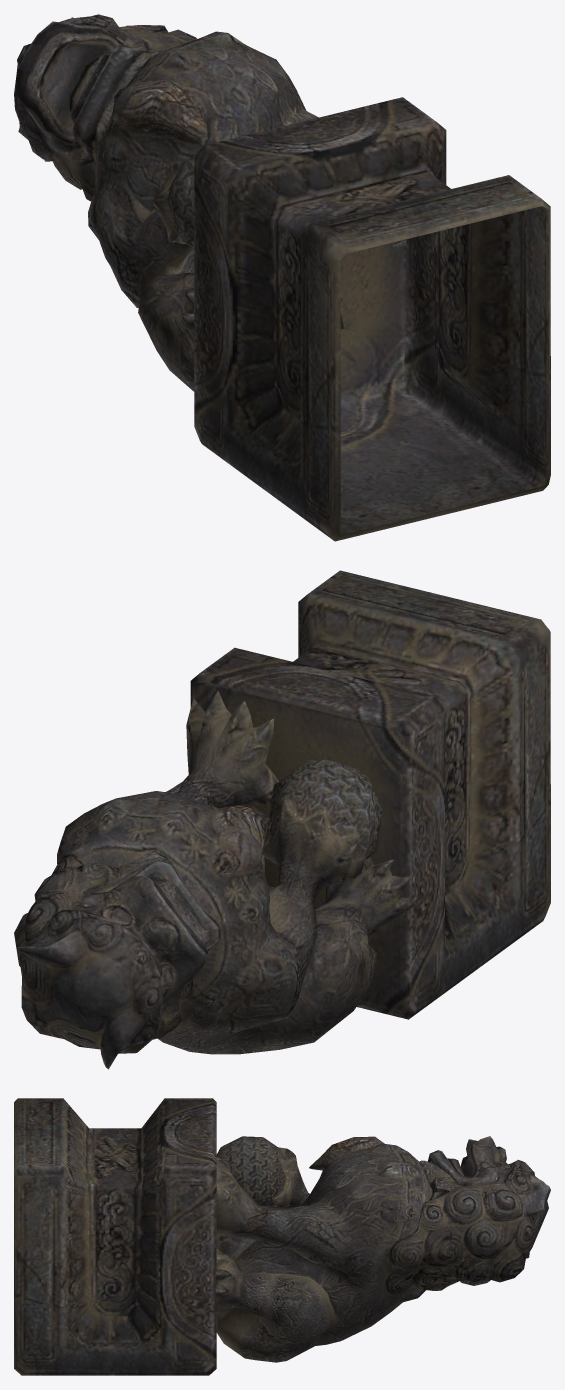
File: shishi.FBX
The picture shows the model from 3 angles, top to bottom: view 1: azimuth 30°, elevation 25°; view 2: azimuth 150°, elevation 25°; view 3: azimuth 270°, elevation 25°; orthographic projection. The views are drawn at different scales.
Parts seen in each view (by area): view 1: Mesh_0769; view 2: Mesh_0769; view 3: Mesh_0769.
Part boxes in pixels (x1,y1,x2,y2): Mesh_0769: (14, 14, 550, 541); Mesh_0769: (14, 570, 550, 1069); Mesh_0769: (14, 1098, 550, 1375).
Bounding box in the file's own units: 61.11 × 76.62 × 172.
1 material, 1 textured.
